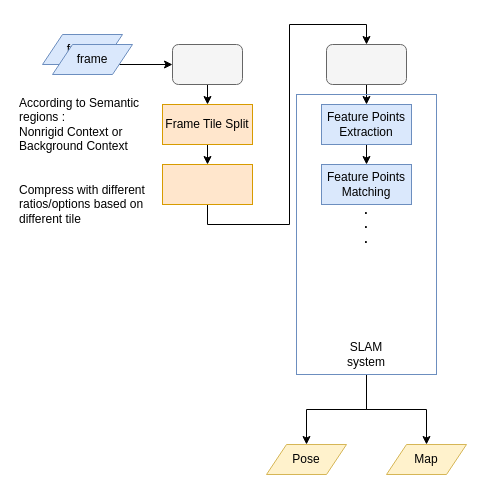
This 484x492 diagram has some shape labels left out. Each missing label, with the centre of its shape:
Client: point (207, 64)
Edge Server: point (366, 64)
Frame Compress: point (207, 184)
